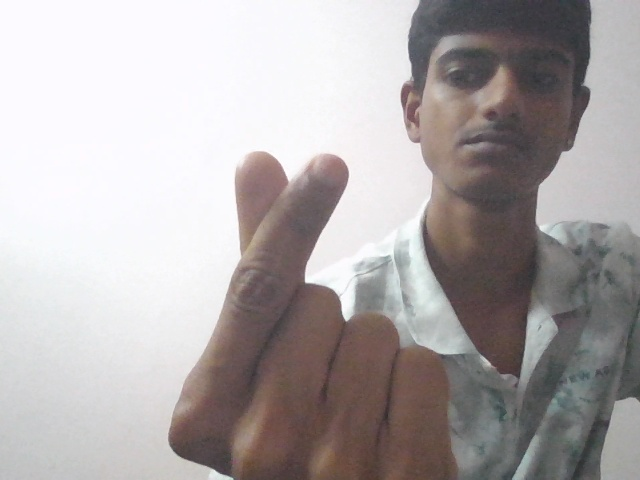iloveyou: (148, 139, 497, 480)
